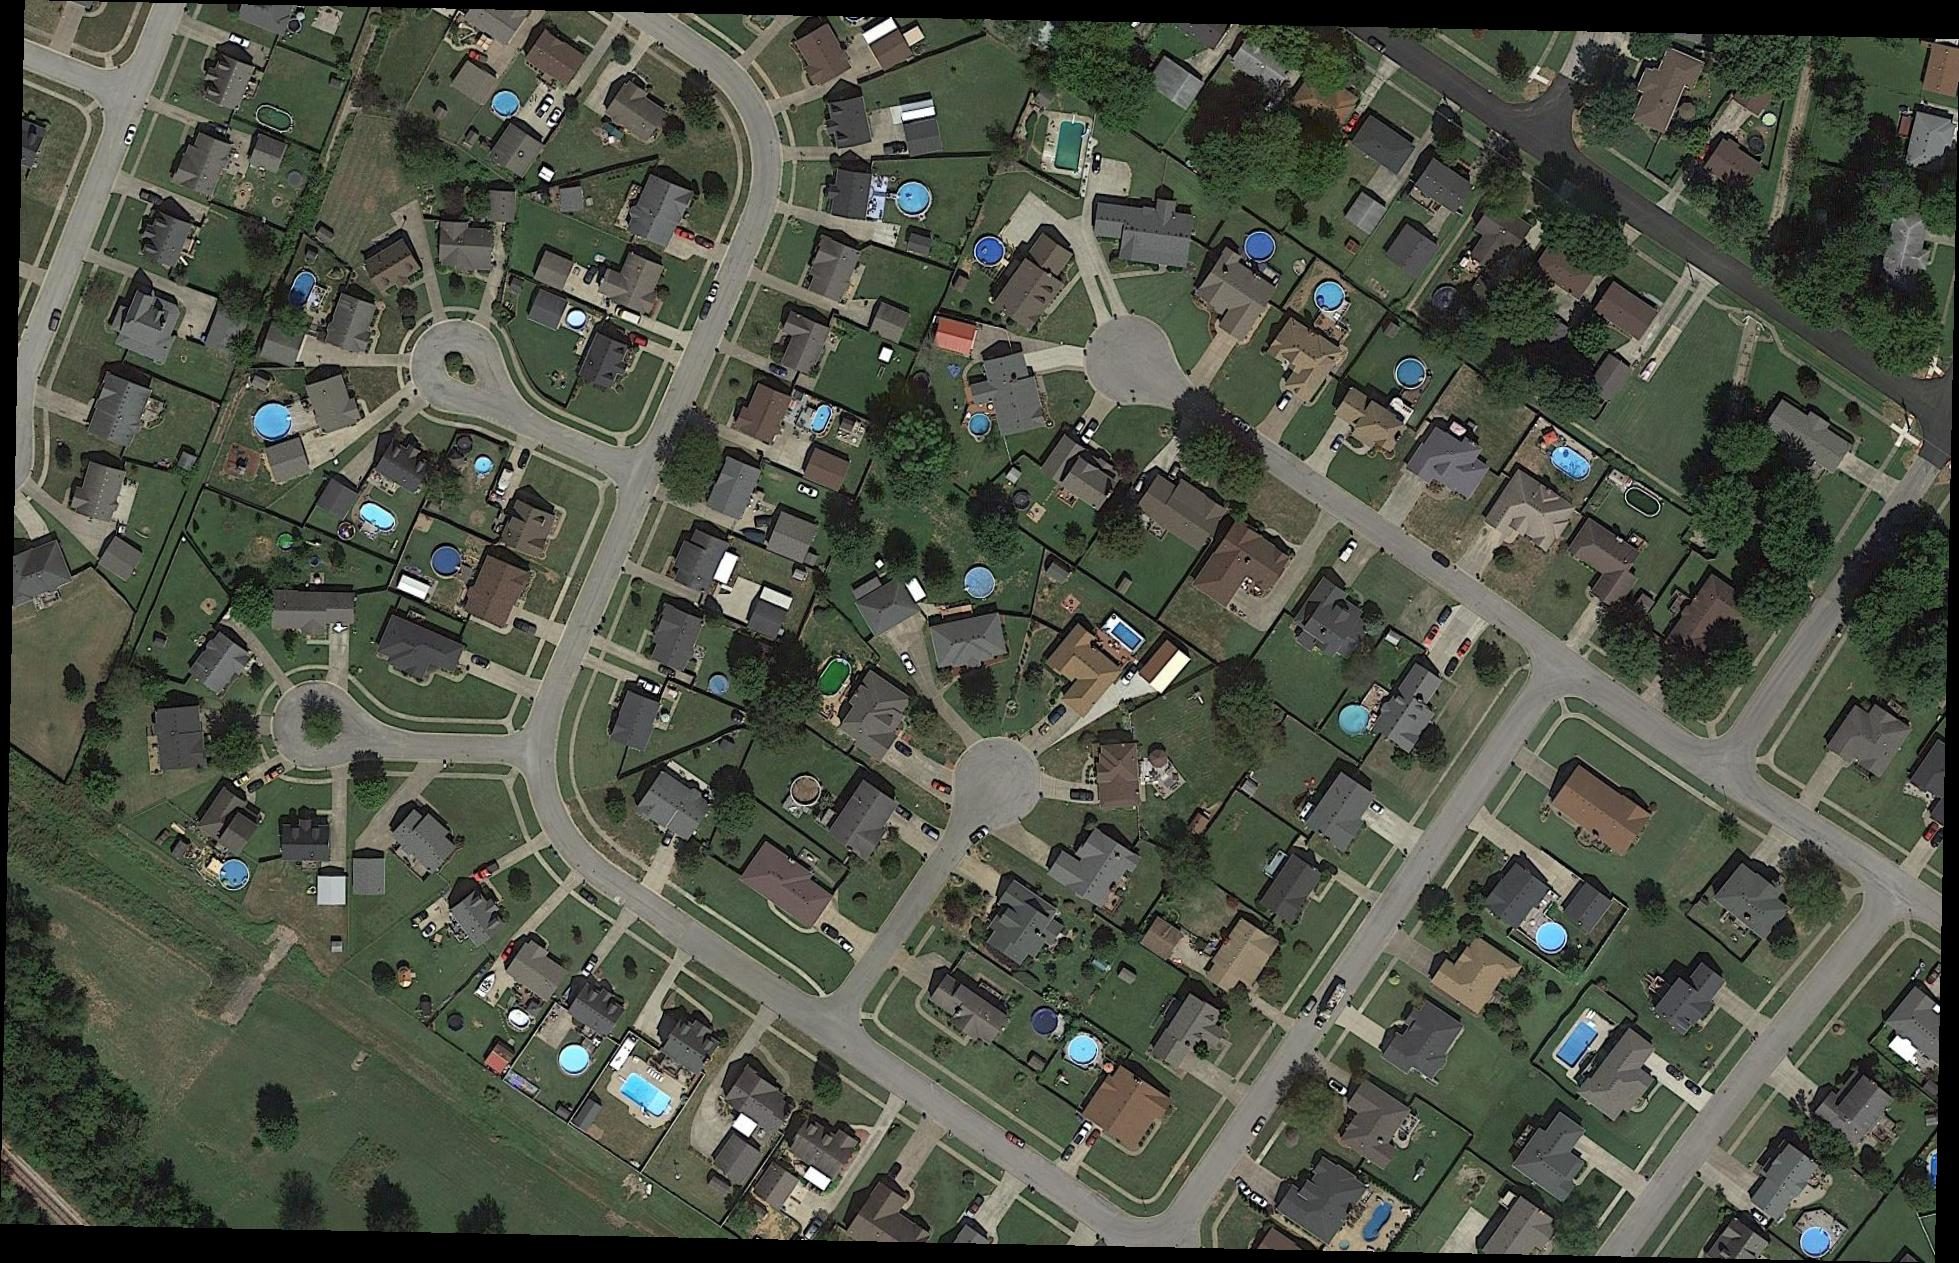ship: (474, 968, 503, 1002)
